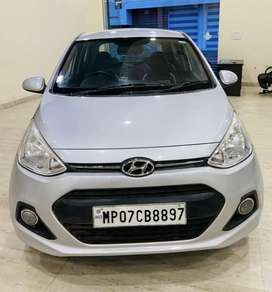MP07CB8897: (92, 201, 186, 228)
